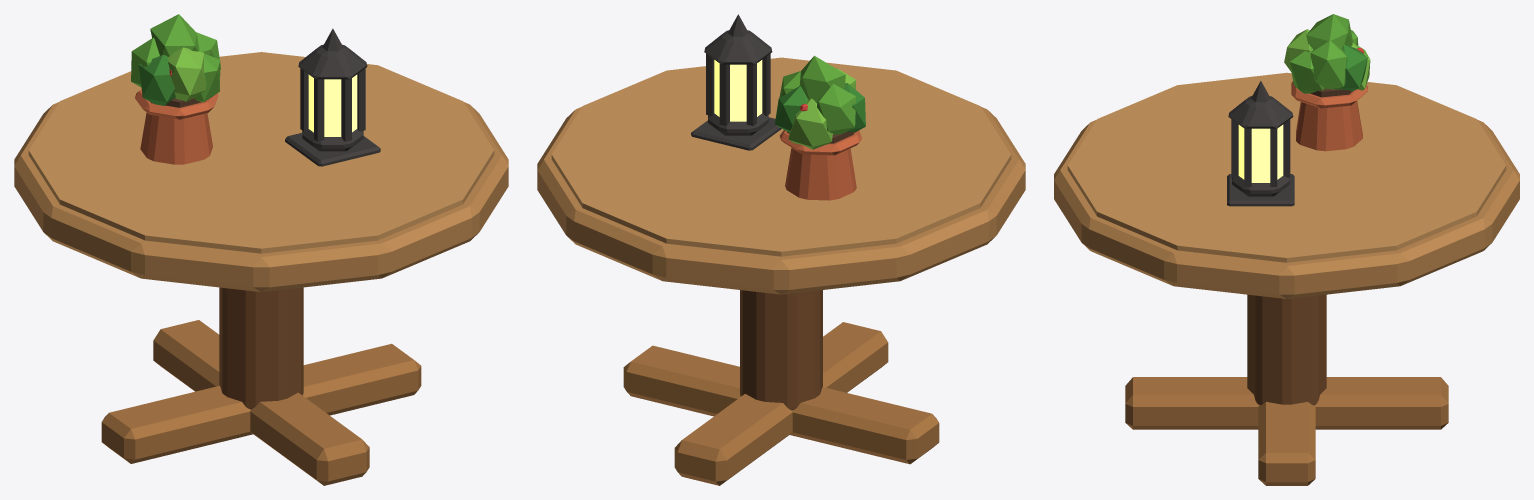
File: lobby_round_table.glb
3 renders of one model, left to right at view 1: azimuth 30°, elevation 25°; view 2: azimuth 150°, elevation 25°; view 3: azimuth 270°, elevation 25°, orthographic. The views are drawn at different scales.
Visible parts, largest first — view 1: lobby_round_table; view 2: lobby_round_table; view 3: lobby_round_table.
Part boxes in pixels (<box>): lobby_round_table: <box>14,14,508,485</box>; lobby_round_table: <box>537,14,1025,485</box>; lobby_round_table: <box>1054,14,1519,485</box>.
Size of the model in its own units: 0.8922 by 0.8038 by 0.8922.
